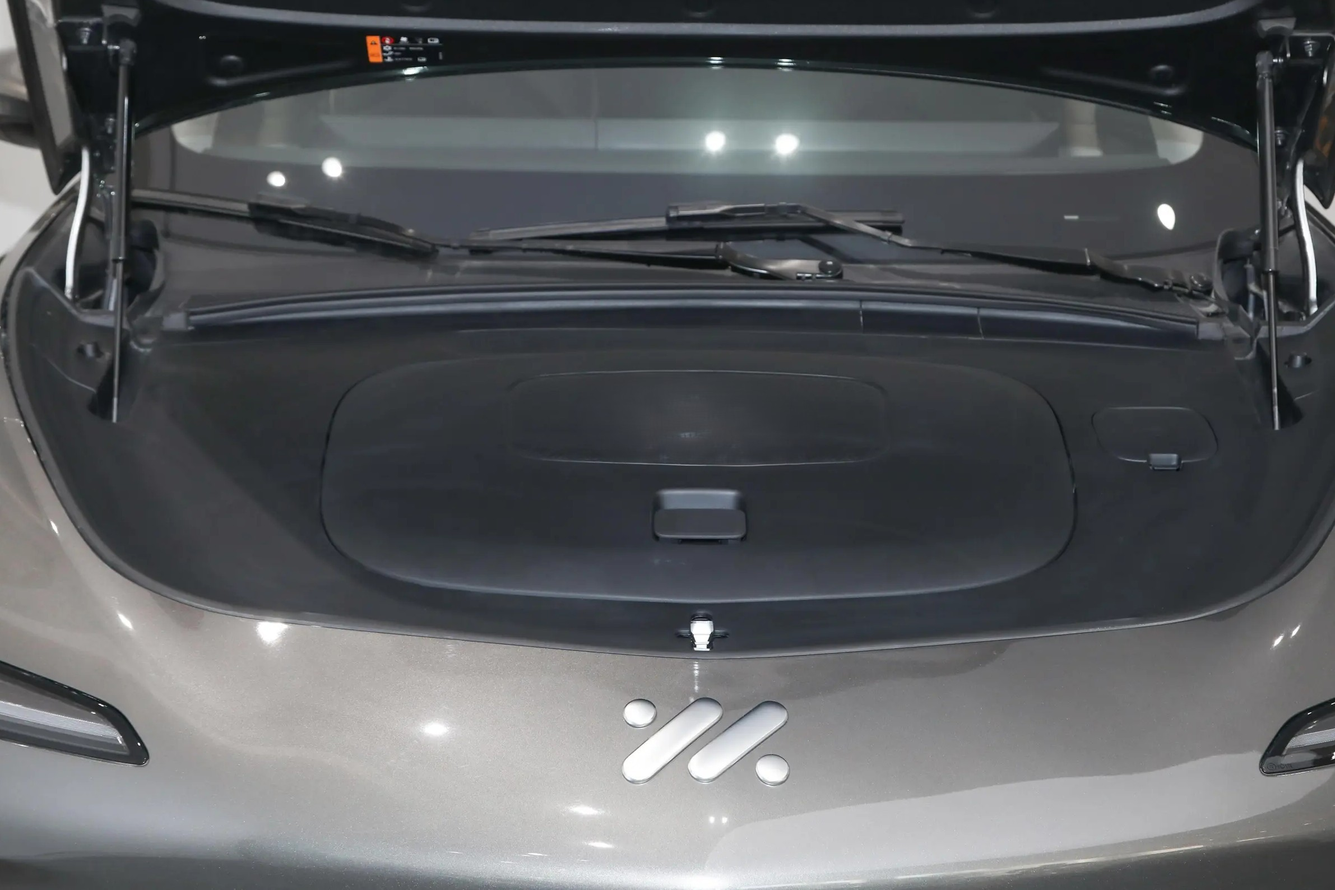IM: (623, 698, 790, 785)
